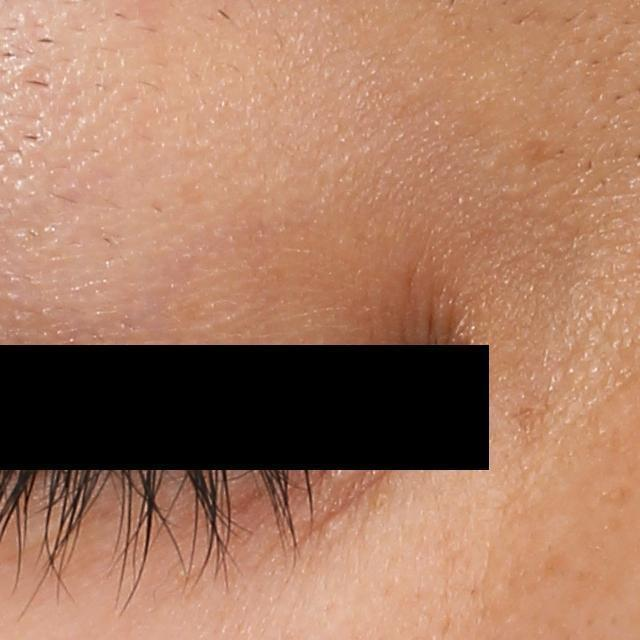melasma: (502, 398, 556, 445)
